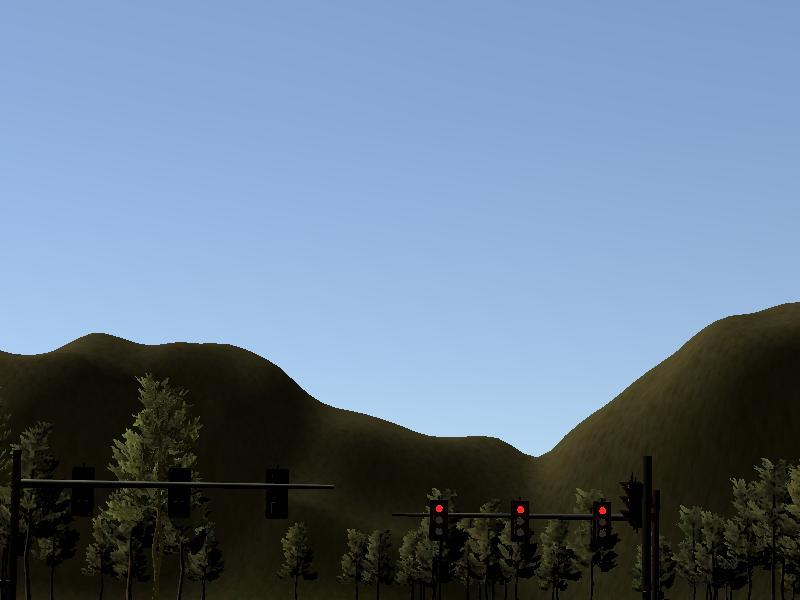Red: (592, 501, 611, 545), (431, 500, 448, 540), (513, 501, 530, 541)
